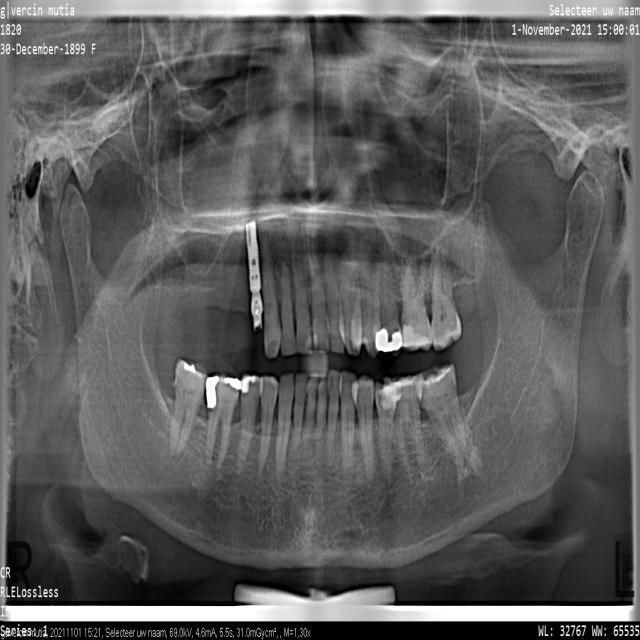Canine: (340, 248, 362, 354), (262, 243, 281, 358), (340, 371, 356, 478), (277, 374, 293, 473)
Incisores: (309, 249, 330, 352), (325, 252, 345, 354), (294, 255, 312, 353), (281, 259, 296, 356), (327, 370, 341, 468), (294, 375, 307, 456), (305, 378, 317, 460), (316, 380, 327, 463)
Premolars: (376, 262, 403, 352), (237, 375, 259, 477), (353, 376, 374, 482), (375, 378, 397, 477), (259, 376, 278, 476), (246, 221, 263, 332), (364, 260, 381, 358)
molars: (418, 364, 470, 468), (393, 374, 429, 487), (171, 359, 206, 459), (205, 374, 241, 471), (400, 255, 432, 351), (431, 254, 462, 351)
